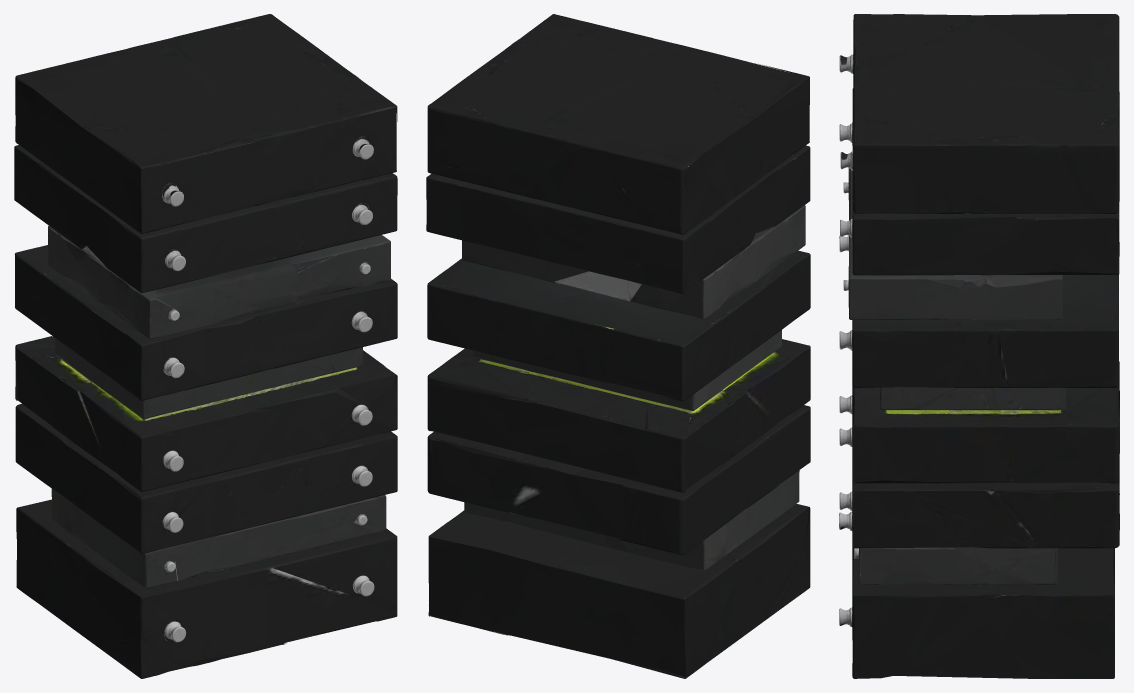
Rendered from proof.glb.
The picture shows the model from 3 angles, left to right: view 1: azimuth 30°, elevation 25°; view 2: azimuth 150°, elevation 25°; view 3: azimuth 270°, elevation 25°; orthographic projection. The views are drawn at different scales.
Bounding box in the file's own units: 1 × 1.9 × 0.9032.
1 material, 1 textured.
